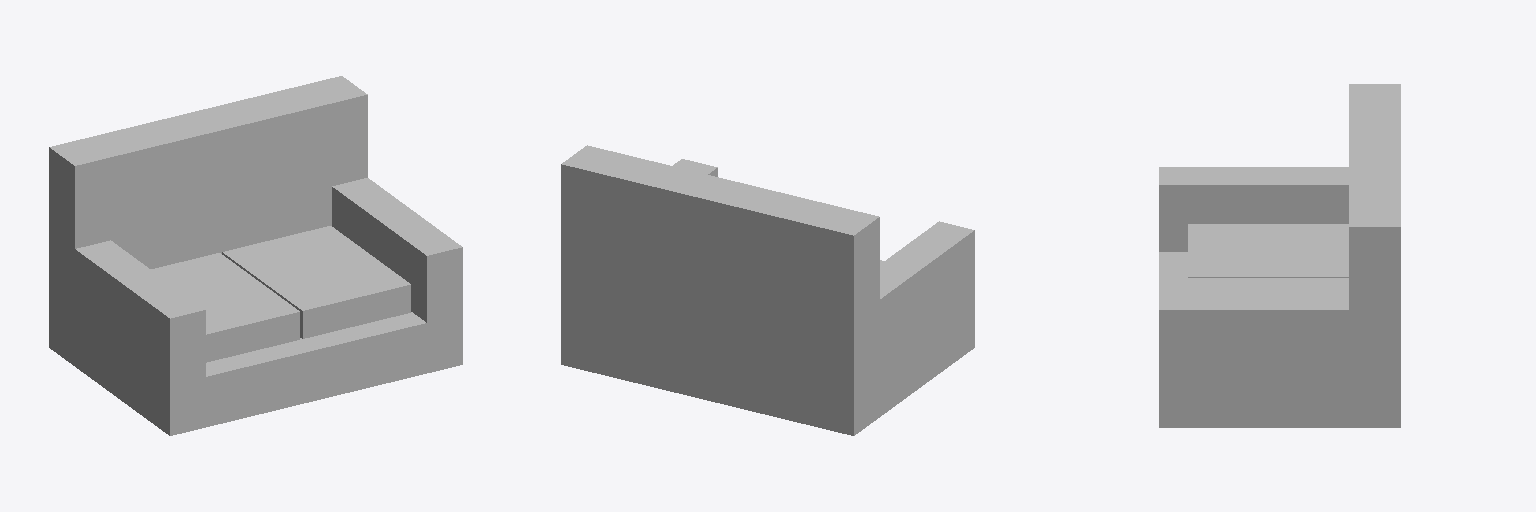
Rendered from sofa_medium.obj.
3 views of the same model, side by side, from view 1: azimuth 30°, elevation 25°; view 2: azimuth 150°, elevation 25°; view 3: azimuth 270°, elevation 25° (orthographic).
Parts seen in each view (by area): view 1: Box004; view 2: Box004; view 3: Box004.
Boxes of the visible parts, x1=… form: Box004: x1=49, y1=76, x2=462, y2=435; Box004: x1=561, y1=145, x2=974, y2=435; Box004: x1=1159, y1=84, x2=1400, y2=427.
Bounding box in the file's own units: 120 × 78.45 × 85.71.